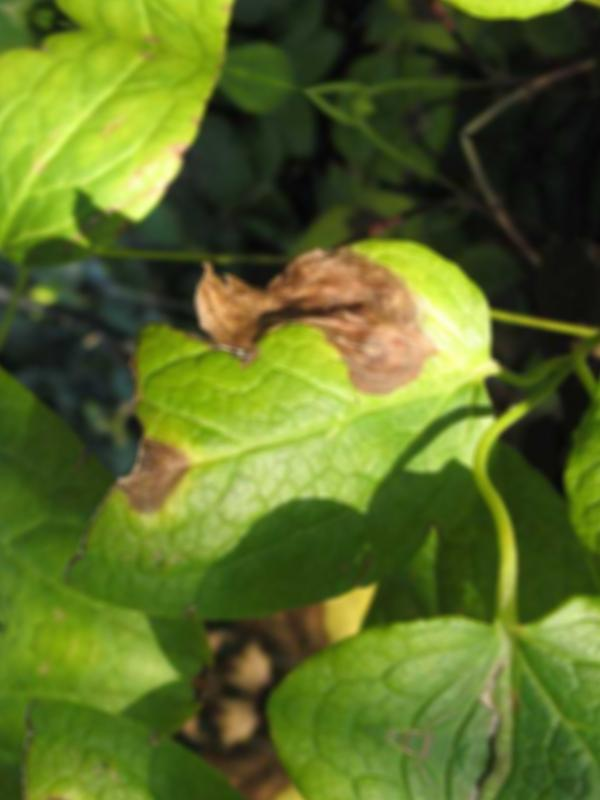Tomato leaf bacterial spot: (56, 155, 546, 696)
